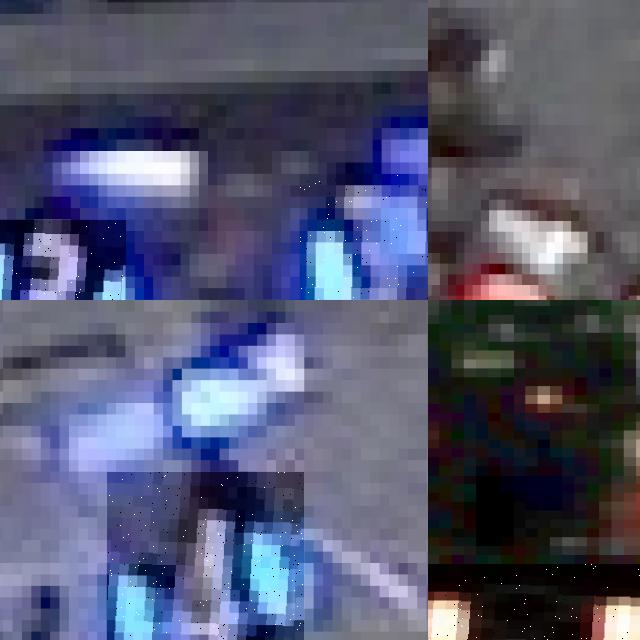B3: (299, 174, 428, 300), (0, 219, 125, 300)
B4: (106, 471, 304, 640)
Rs: (428, 563, 640, 640)
